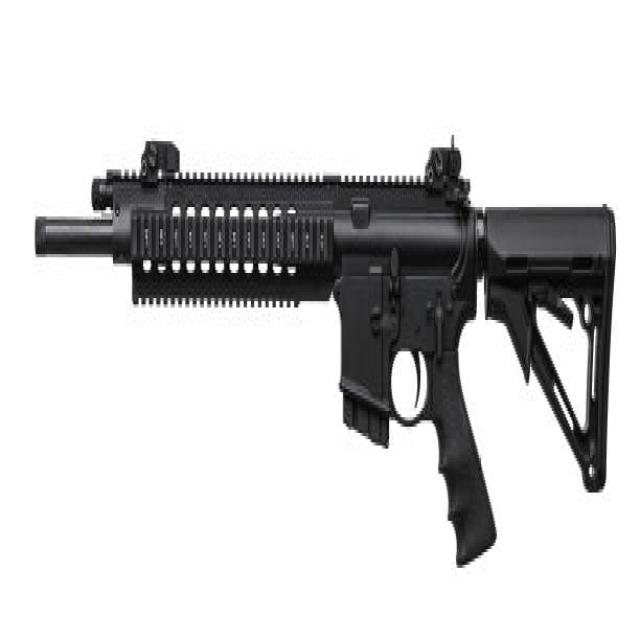rifle: (31, 110, 624, 585)
